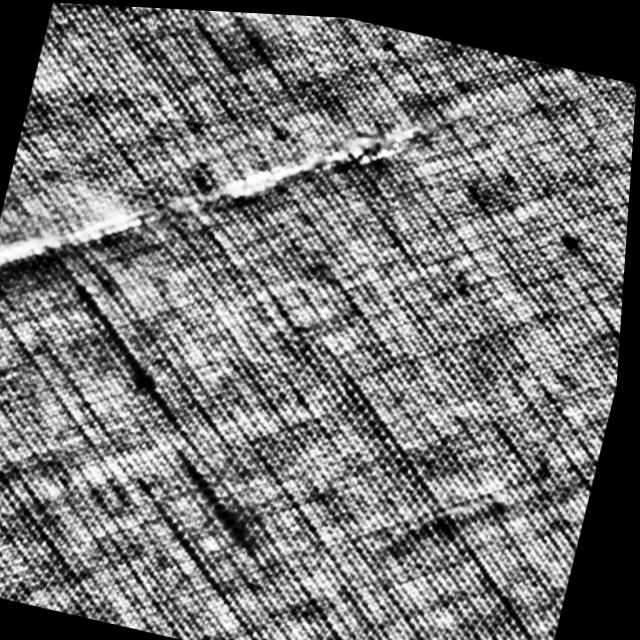Stitch: (0, 33, 442, 387)
